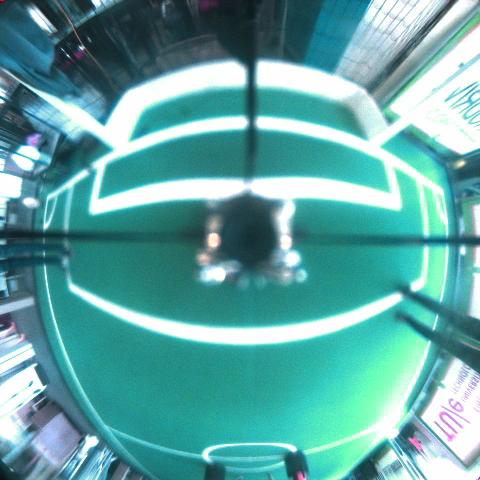ball: (23, 198, 40, 209), (451, 161, 465, 170)
goal: (368, 60, 479, 148), (35, 89, 128, 149)
person: (394, 312, 479, 373), (397, 284, 479, 341), (0, 243, 71, 276)
robot: (400, 425, 426, 455), (283, 451, 310, 479), (205, 463, 224, 479)
